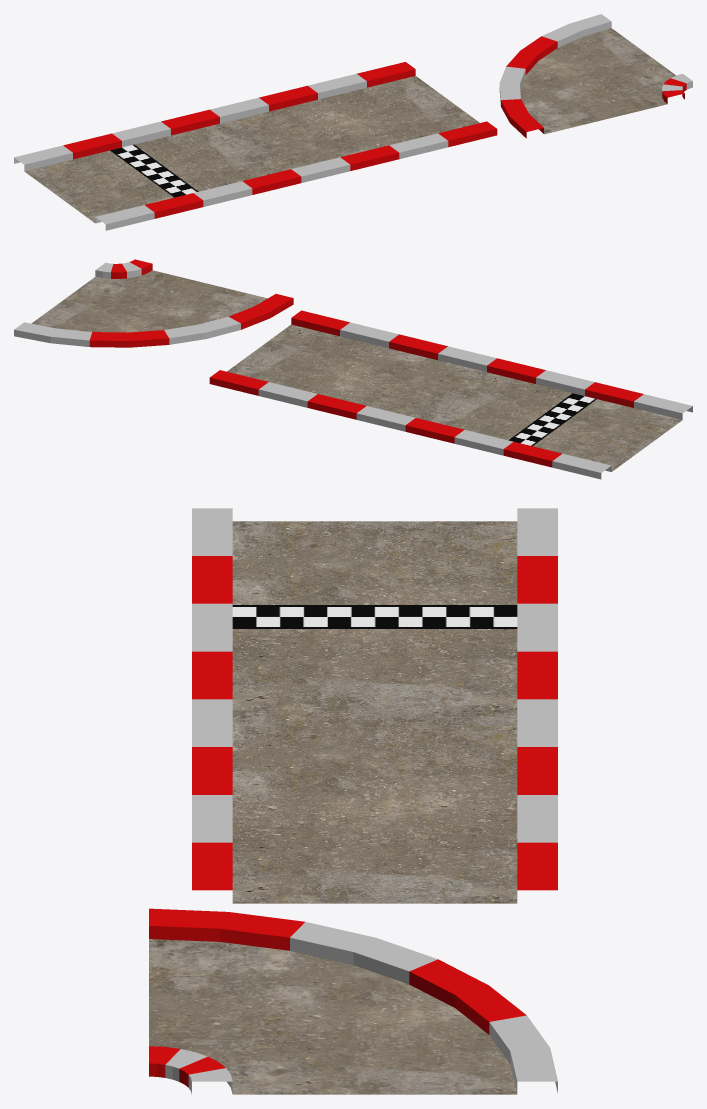
The model's file is track.dae.
3 views of the same model, one above another, from view 1: azimuth 30°, elevation 25°; view 2: azimuth 150°, elevation 25°; view 3: azimuth 270°, elevation 25° (orthographic). The views are drawn at different scales.
Parts seen in each view (by area): view 1: startTrack, straightTrack, curveTrack, startWall, straightWall, curveWall; view 2: startTrack, straightTrack, curveTrack, startWall, straightWall, curveWall; view 3: startTrack, straightTrack, curveTrack, curveWall, startWall, straightWall.
Boxes of the visible parts, left/top/right/bottom form: startTrack: left=24, top=123, right=283, bottom=222; straightTrack: left=220, top=76, right=479, bottom=170; curveTrack: left=520, top=28, right=675, bottom=134; startWall: left=14, top=109, right=301, bottom=230; straightWall: left=210, top=62, right=497, bottom=182; curveWall: left=499, top=14, right=692, bottom=138; startTrack: left=423, top=372, right=682, bottom=471; straightTrack: left=227, top=324, right=486, bottom=419; curveTrack: left=31, top=270, right=267, bottom=332; startWall: left=405, top=358, right=692, bottom=479; straightWall: left=209, top=310, right=496, bottom=431; curveWall: left=14, top=259, right=293, bottom=347; startTrack: left=232, top=521, right=517, bottom=712; straightTrack: left=232, top=712, right=517, bottom=903; curveTrack: left=149, top=939, right=517, bottom=1094; curveWall: left=149, top=908, right=557, bottom=1094; startWall: left=192, top=508, right=557, bottom=699; straightWall: left=192, top=699, right=557, bottom=890.
Size of the model in its own units: 1.2 by 0.362 by 0.0129.
4 materials, 2 textured.
